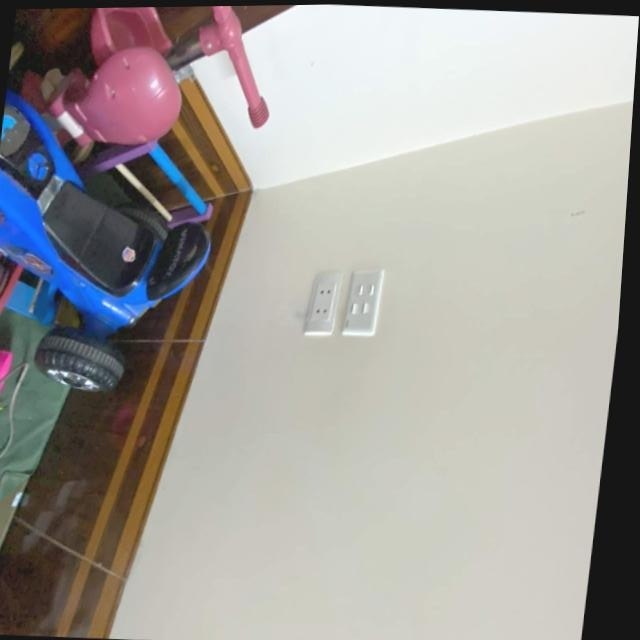outlet: (303, 269, 344, 337)
